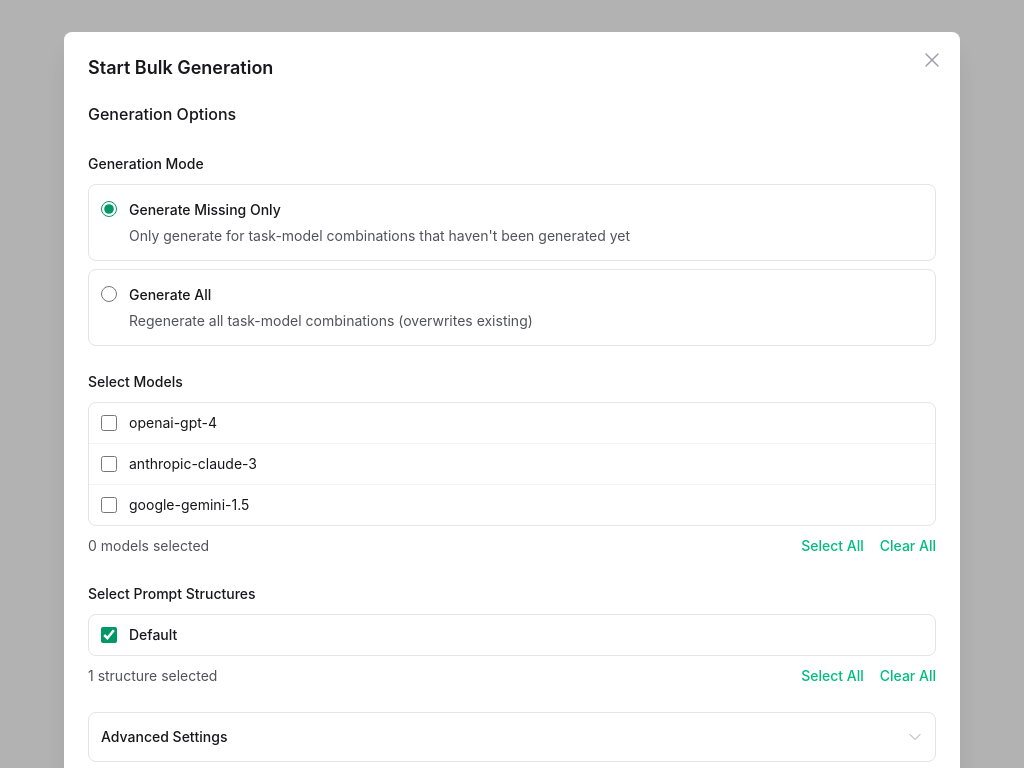
Test: GenerationControlModal › handles generation mode toggle
Expected: the radio button labelled "Generate Missing Only" is checked, 101,201 -> 117,217
Click the radio button labelled "Generate All". click: (109, 294)
box: 101,286 -> 117,302
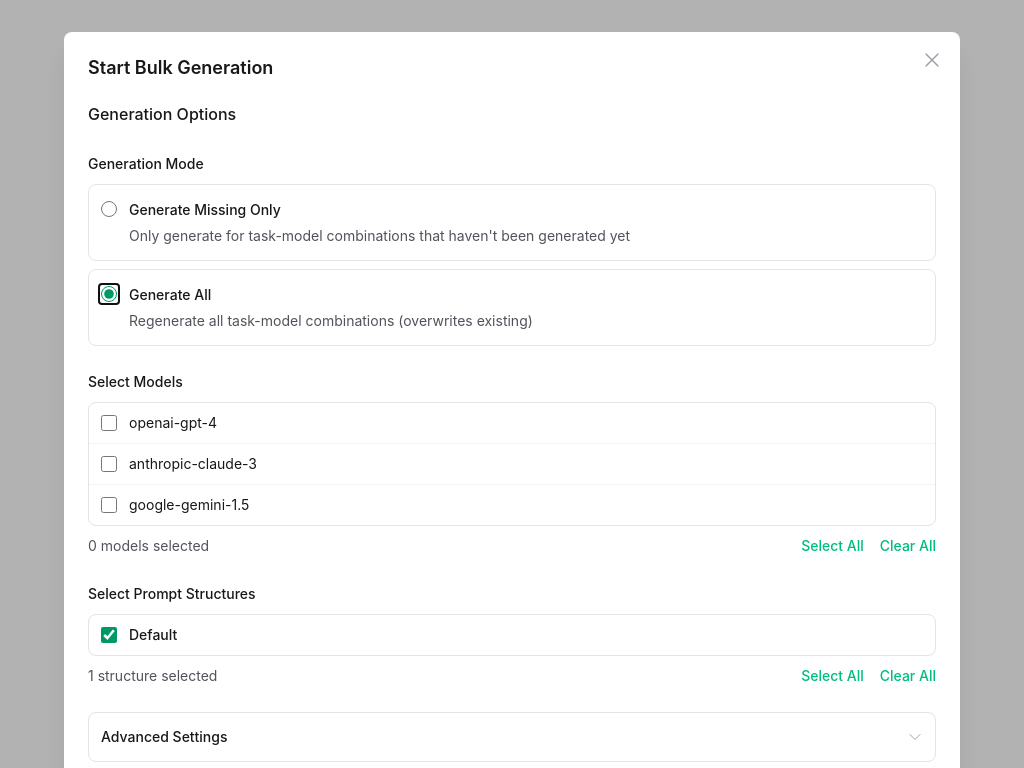
Expected: the radio button labelled "Generate All" is checked, 101,286 -> 117,302
Expected: the radio button labelled "Generate Missing Only" is not checked, 101,201 -> 117,217
